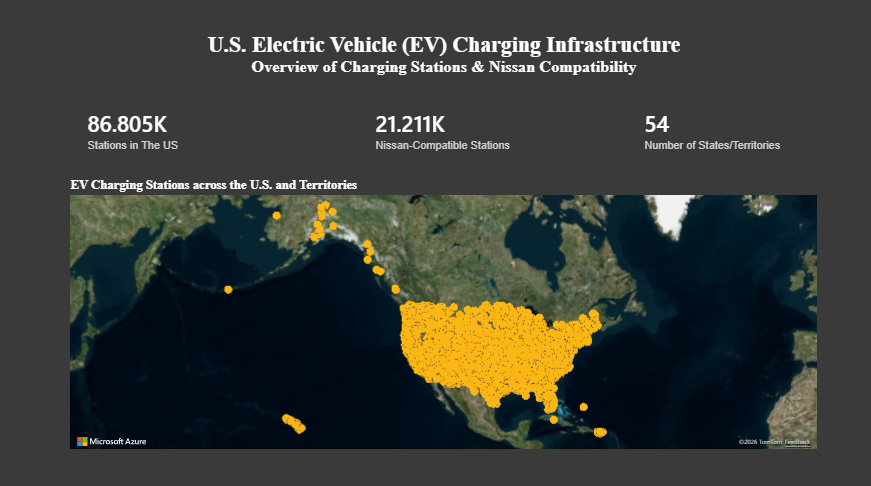

The dashboard page shown, as its layout file describes it:
{"tool":"powerbi","page":{"name":"Page 1","canvas":[1280,720],"ordinal":0},"visuals":[{"type":"azureMap","title":"EV Charging Stations across the U.S. and Territories","fields":{"X":["Avg(US_EV_Charging_Stations.Longitude)"],"Y":["Avg(US_EV_Charging_Stations.Latitude)"],"Category":["US_EV_Charging_Stations.City","US_EV_Charging_Stations.State","US_EV_Charging_Stations.Street Address"],"Series":["US_EV_Charging_Stations.Country"]},"box":[100.2,262.2,1106.2,403.6],"z":0},{"type":"cardVisual","fields":{"Data":["CountNonNull(US_EV_Charging_Stations.ID)"]},"box":[99.8,126.2,261.3,132.1],"z":1000},{"type":"cardVisual","fields":{"Data":["Count(US_EV_Charging_Stations.Stations in The US)"]},"box":[522.6,126.2,261.3,132.1],"z":2000},{"type":"cardVisual","fields":{"Data":["US_EV_Charging_Stations.Number of States"]},"box":[917.4,126.2,289.2,132.1],"z":3000},{"type":"textbox","box":[99.8,45.5,1106.8,80.7],"z":4000}]}

Visuals, with their boxes in screenshot pixels (x1, y1, x2, y2), scaled from the page's 1280x720 canvas onto the 871x486 screenshot:
"EV Charging Stations across the U.S. and Territories" azureMap: box(68, 177, 821, 449)
cardVisual - CountNonNull(US_EV_Charging_Stations.ID): box(68, 85, 246, 174)
cardVisual - Count(US_EV_Charging_Stations.Stations in The US): box(356, 85, 533, 174)
cardVisual - US_EV_Charging_Stations.Number of States: box(624, 85, 821, 174)
textbox: box(68, 31, 821, 85)
